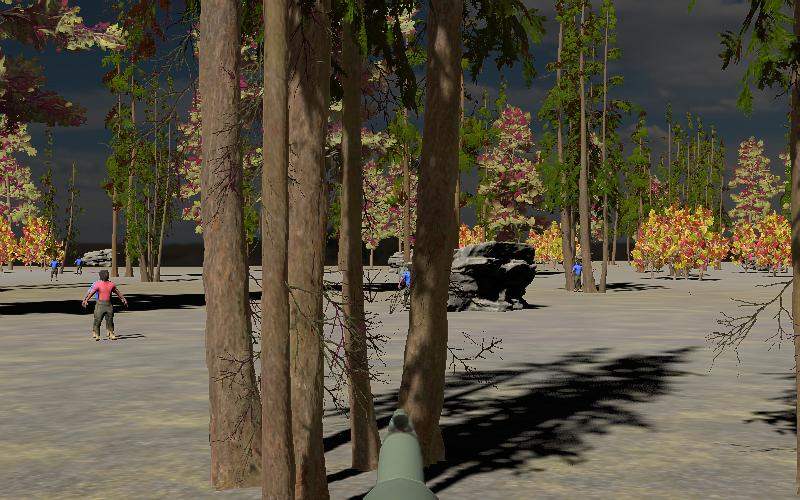Human: (81, 268, 129, 343), (399, 262, 414, 304), (570, 259, 585, 294), (48, 257, 61, 283), (74, 255, 85, 276)
